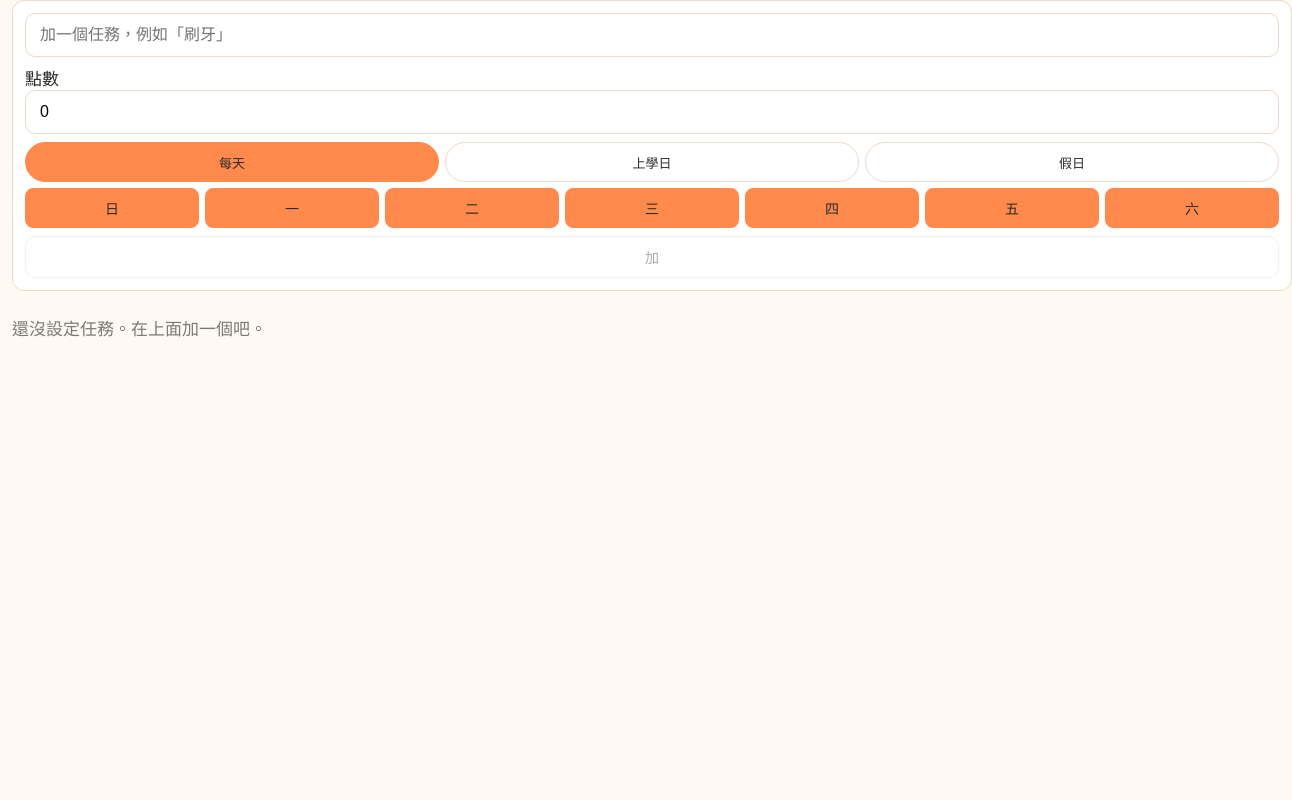
Test: TasksPage › creates and edits tasks with custom points
This screenshot has width=1292, height=800.
Type "整理房間" into the field named "新任務".
click(652, 35); type("整理房間")  # box x1=25 y1=13 x2=1279 y2=57
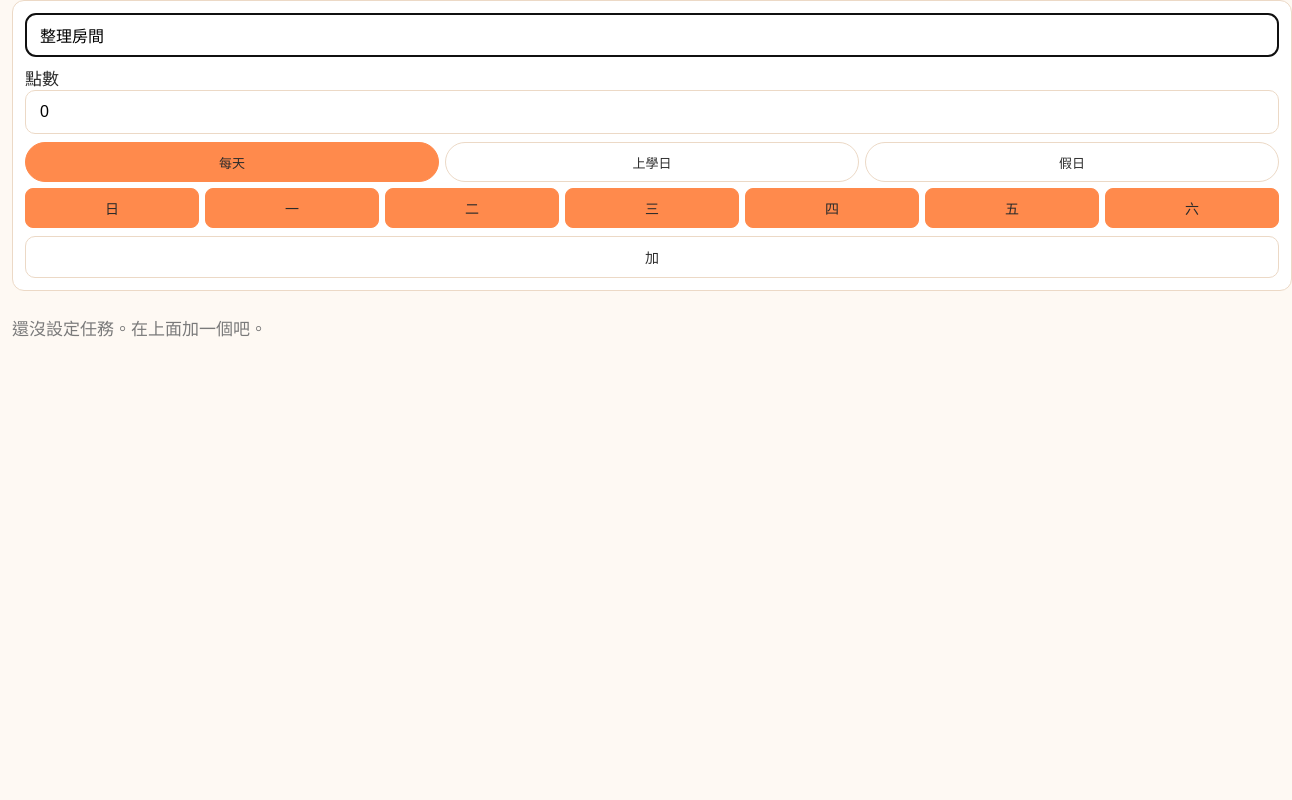
Replace the text in the number field named "新任務點數" with "3" at (652, 112), box x1=25 y1=90 x2=1279 y2=134
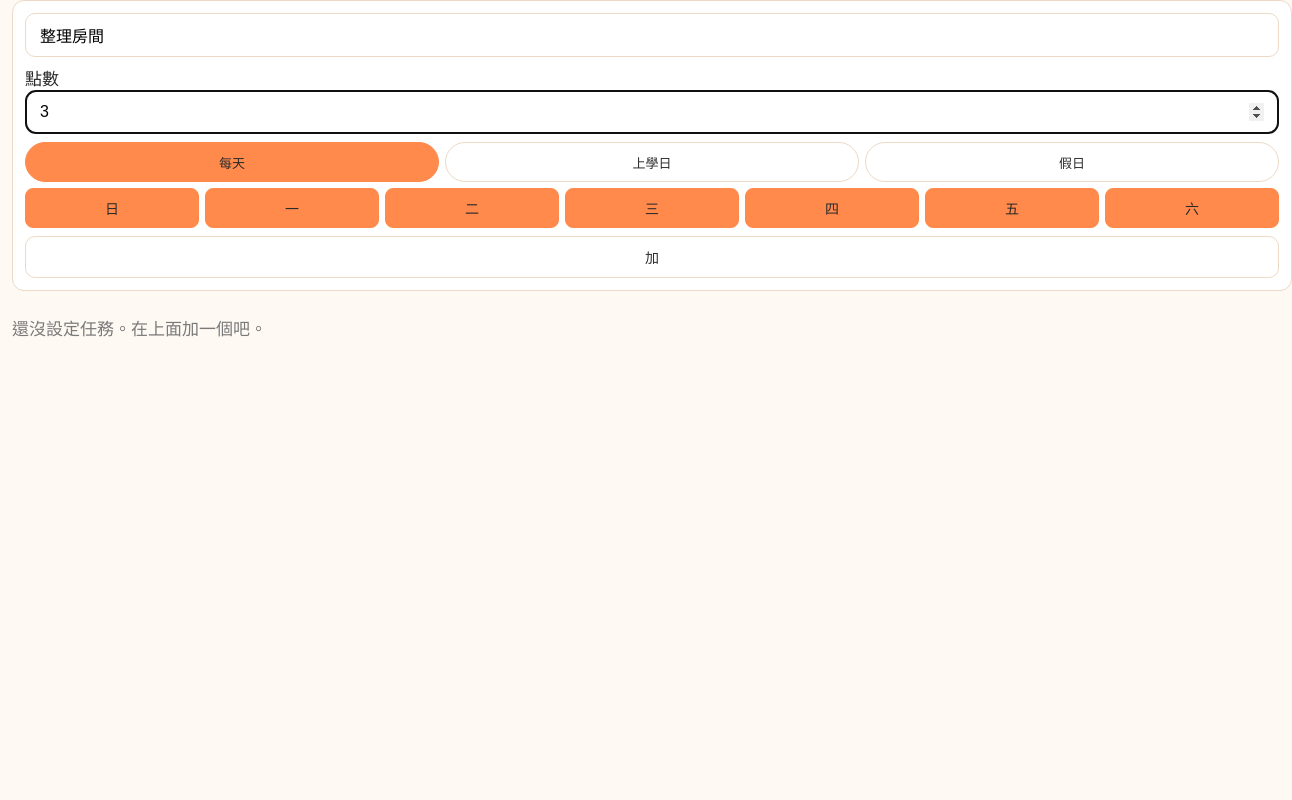
Click the button "加".
click(652, 257)  # box x1=25 y1=236 x2=1279 y2=278
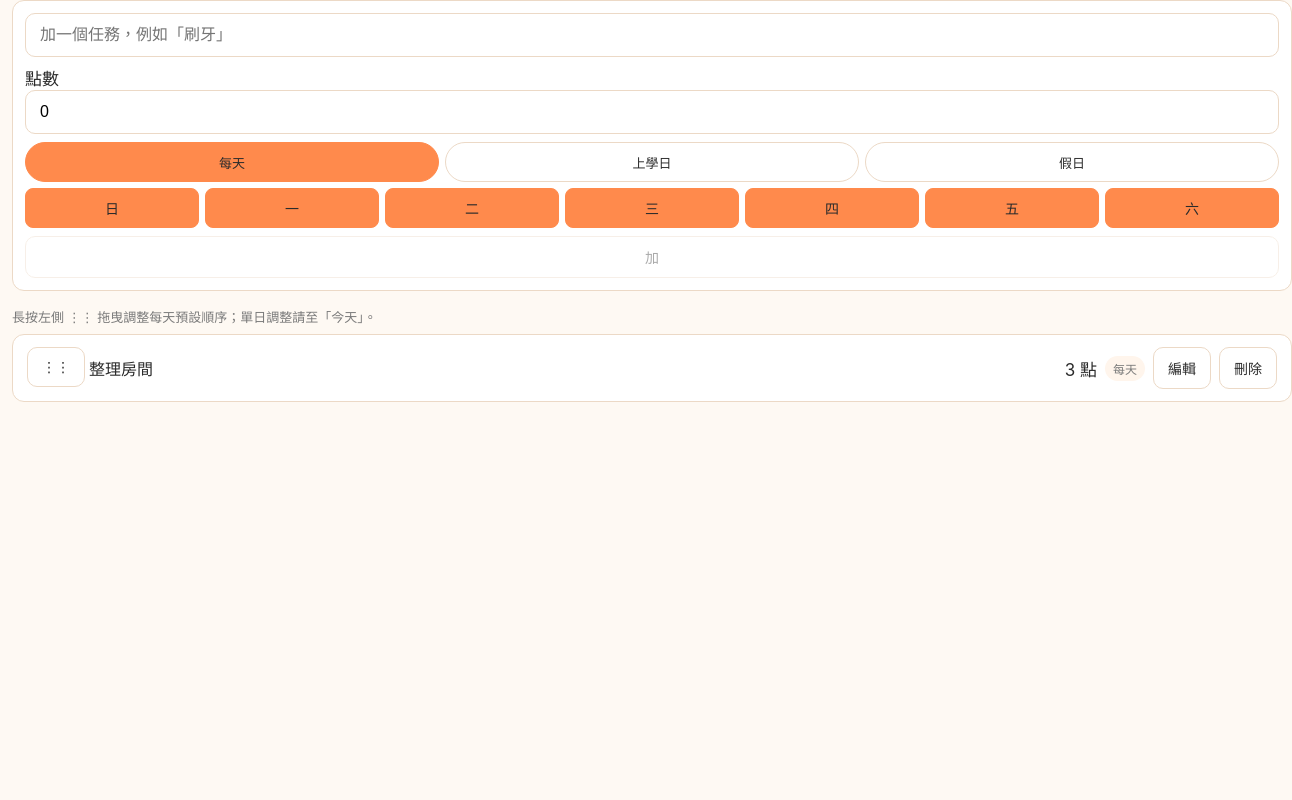
Expected: the text "3 點" is shown, x1=1065 y1=356 x2=1097 y2=380
Click the button with aria-label "編輯 整理房間".
click(1182, 368)  # box x1=1153 y1=347 x2=1211 y2=389
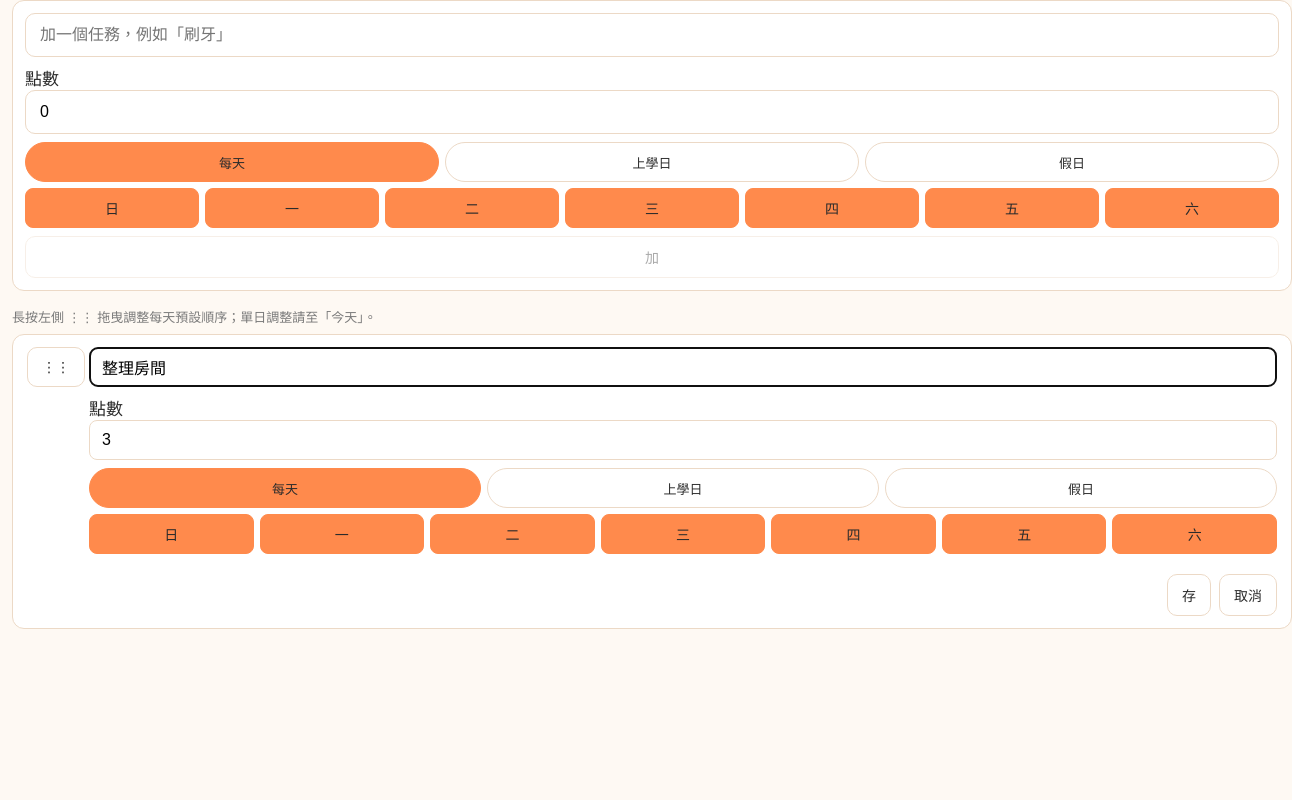
Replace the text in the number field named "編輯任務點數" with "5" at (683, 440), box x1=89 y1=420 x2=1277 y2=460
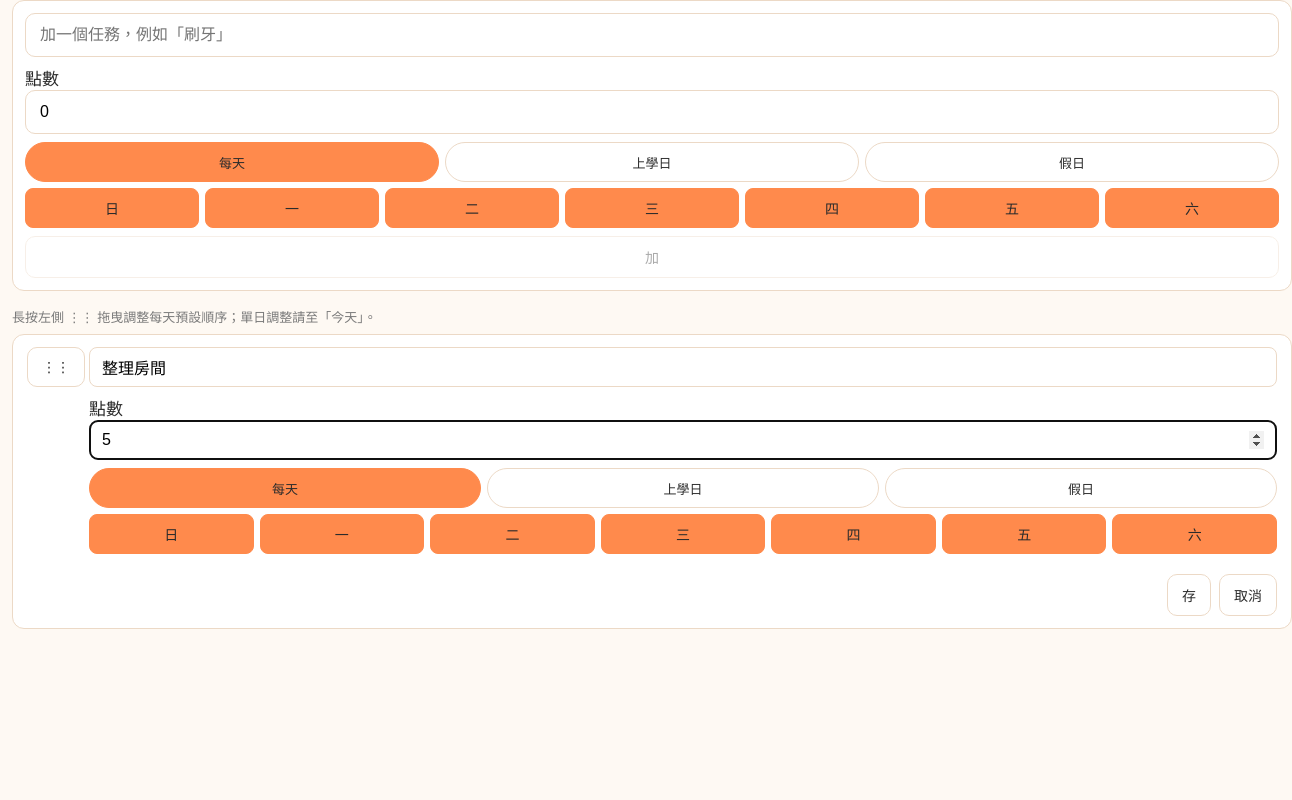
Click the button "存".
click(1189, 595)  # box x1=1167 y1=574 x2=1211 y2=616
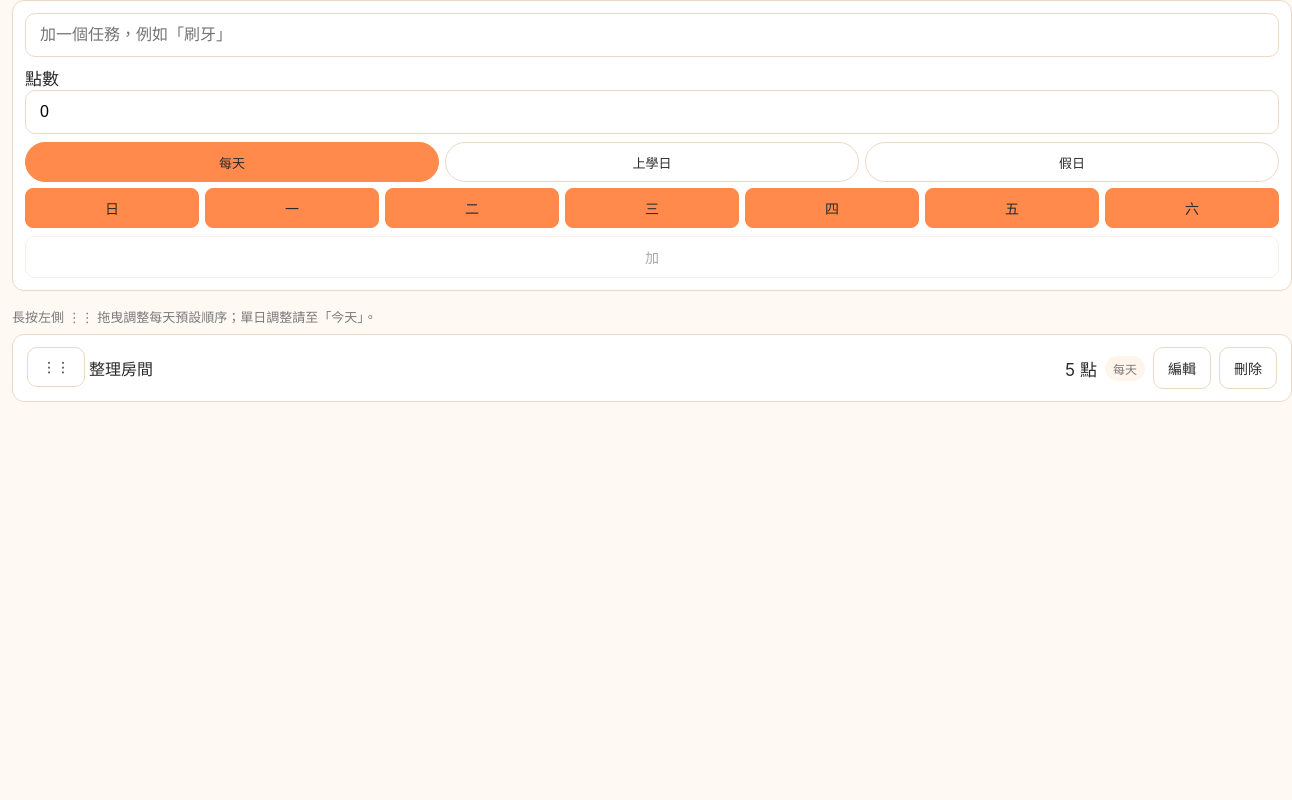
Expected: the text "5 點" is shown, x1=1065 y1=356 x2=1097 y2=380
